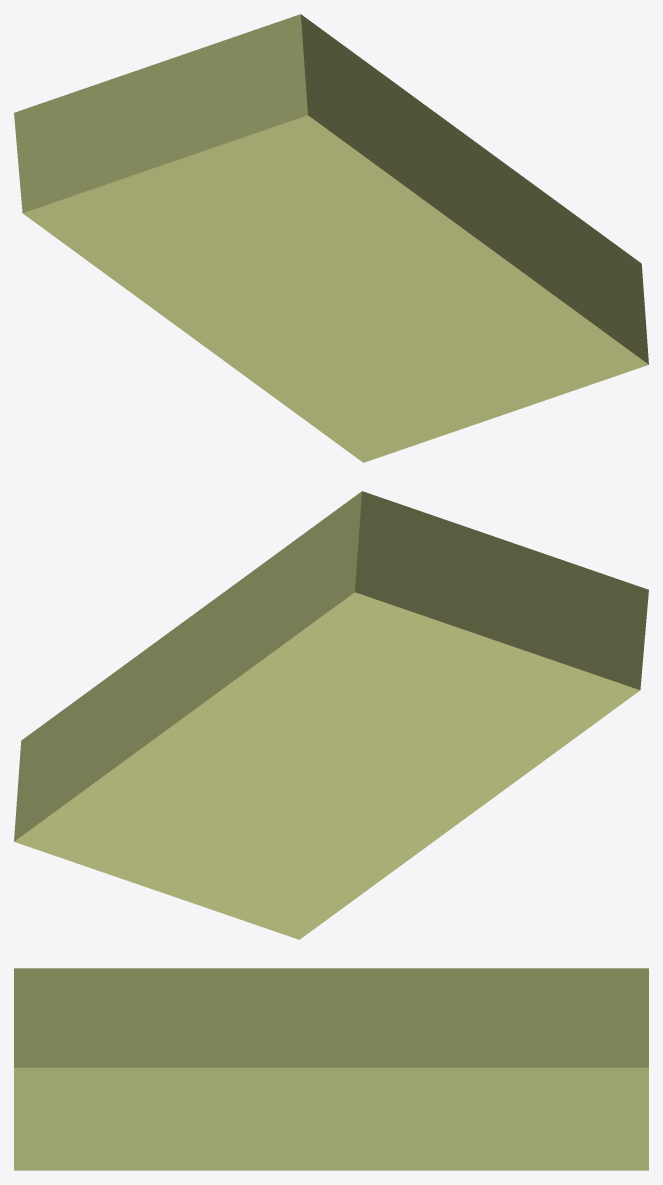
The picture shows the model from 3 angles, top to bottom: view 1: azimuth 30°, elevation 25°; view 2: azimuth 150°, elevation 25°; view 3: azimuth 270°, elevation 25°; orthographic projection. The views are drawn at different scales.
Visible parts, largest first — view 1: 0_2_3_3_3_1_0_1_0_3_2_3; view 2: 0_2_3_3_3_1_0_1_0_3_2_3; view 3: 0_2_3_3_3_1_0_1_0_3_2_3.
Boxes of the visible parts, left/top/right/bottom form: 0_2_3_3_3_1_0_1_0_3_2_3: left=14, top=14, right=648, bottom=462; 0_2_3_3_3_1_0_1_0_3_2_3: left=14, top=491, right=648, bottom=939; 0_2_3_3_3_1_0_1_0_3_2_3: left=14, top=968, right=648, bottom=1170.
Size of the model in its own units: 2.99 by 1.28 by 6.
